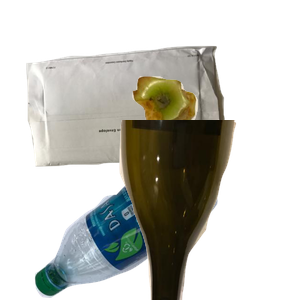glass: (117, 120, 300, 300)
paper: (24, 43, 242, 202)
plastic: (32, 154, 242, 300)
trash: (130, 74, 300, 199)
